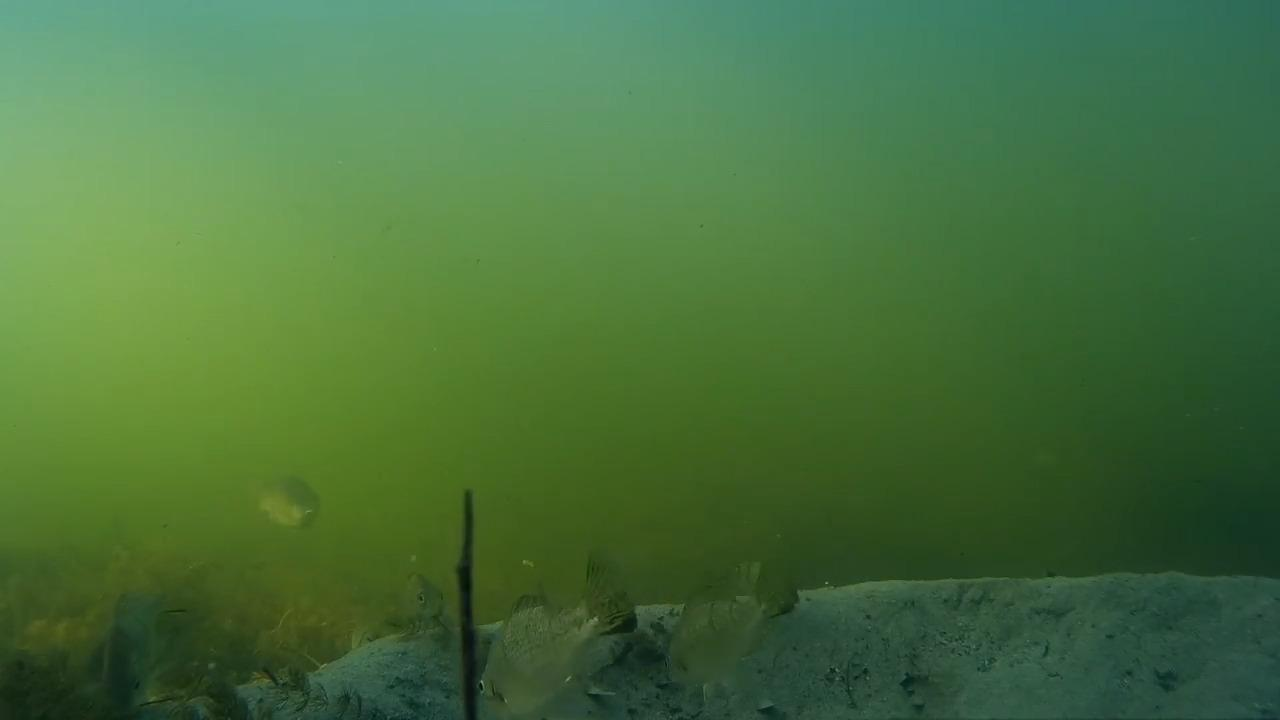Tilapia: (474, 538, 649, 720), (654, 550, 815, 708), (63, 568, 175, 708), (375, 562, 462, 632), (246, 472, 333, 536)
